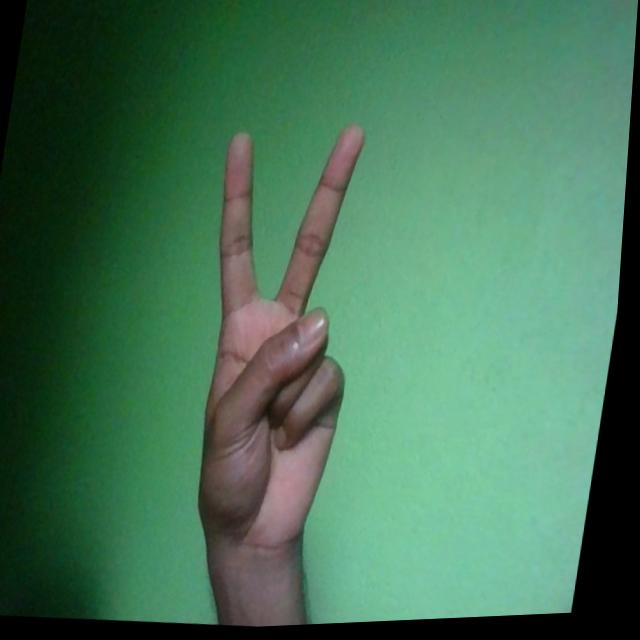Peace: (173, 116, 388, 568)
